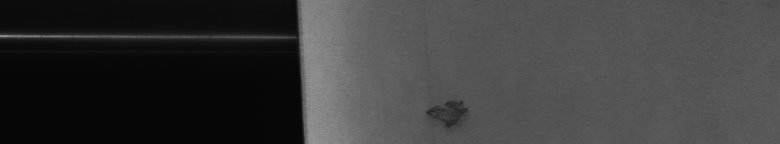fi: (423, 92, 472, 136)
